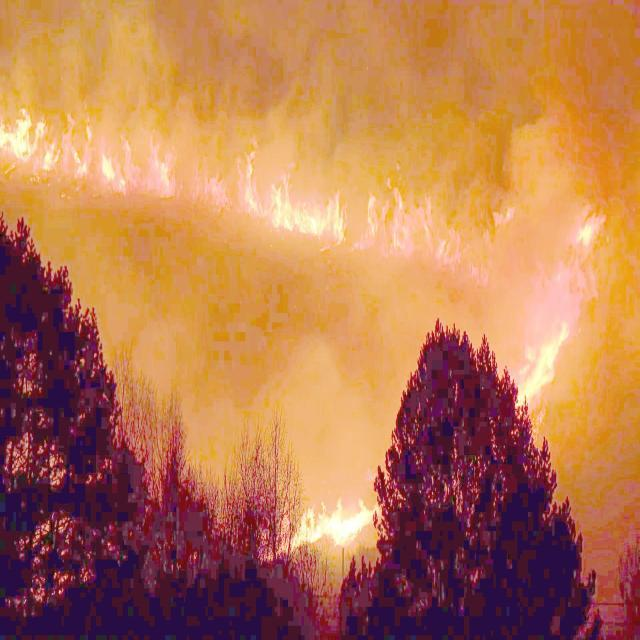Fire: (5, 96, 98, 190), (268, 168, 354, 266), (187, 138, 275, 222), (96, 119, 187, 196), (282, 494, 386, 558), (507, 317, 575, 407)
Smoke: (0, 2, 640, 108), (105, 244, 402, 432), (366, 121, 640, 304)
